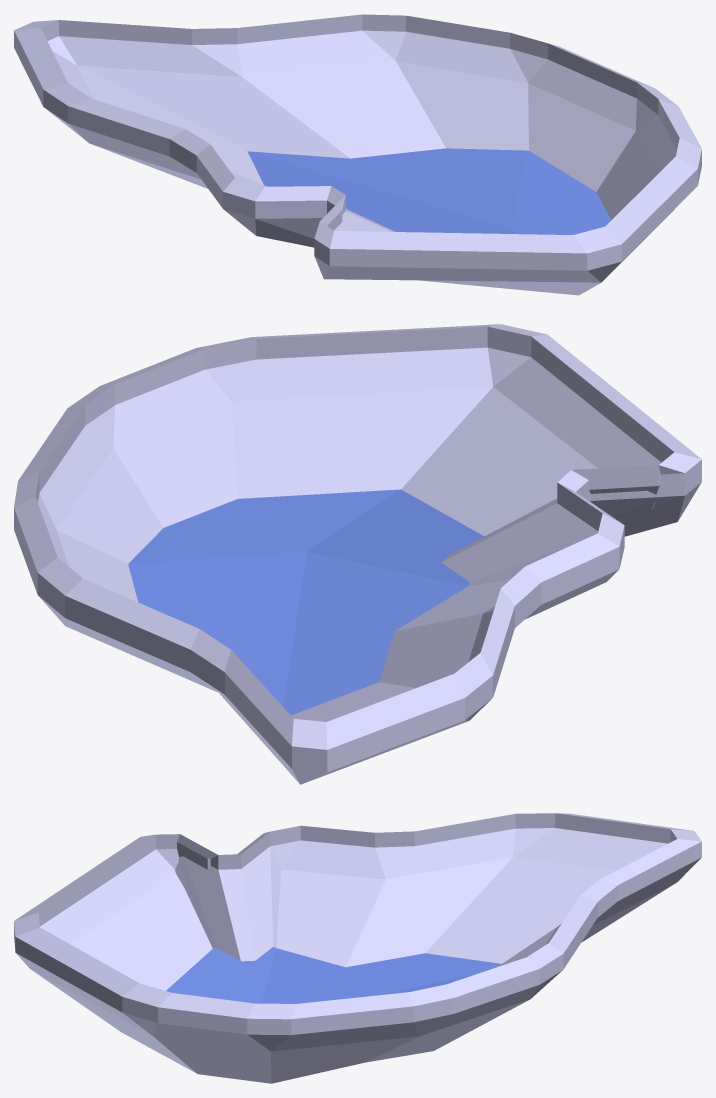
Rendered from TWS Back.fbx.
3 views of the same model, one above another, from view 1: azimuth 30°, elevation 25°; view 2: azimuth 150°, elevation 25°; view 3: azimuth 270°, elevation 25° (orthographic). The views are drawn at different scales.
Visible parts, largest first — view 1: TWS Back; view 2: TWS Back; view 3: TWS Back.
Boxes of the visible parts, x1=… form: TWS Back: x1=14, y1=14, x2=701, y2=295; TWS Back: x1=14, y1=324, x2=701, y2=784; TWS Back: x1=14, y1=813, x2=701, y2=1083.
Bounding box in the file's own units: 692 × 157 × 979.
